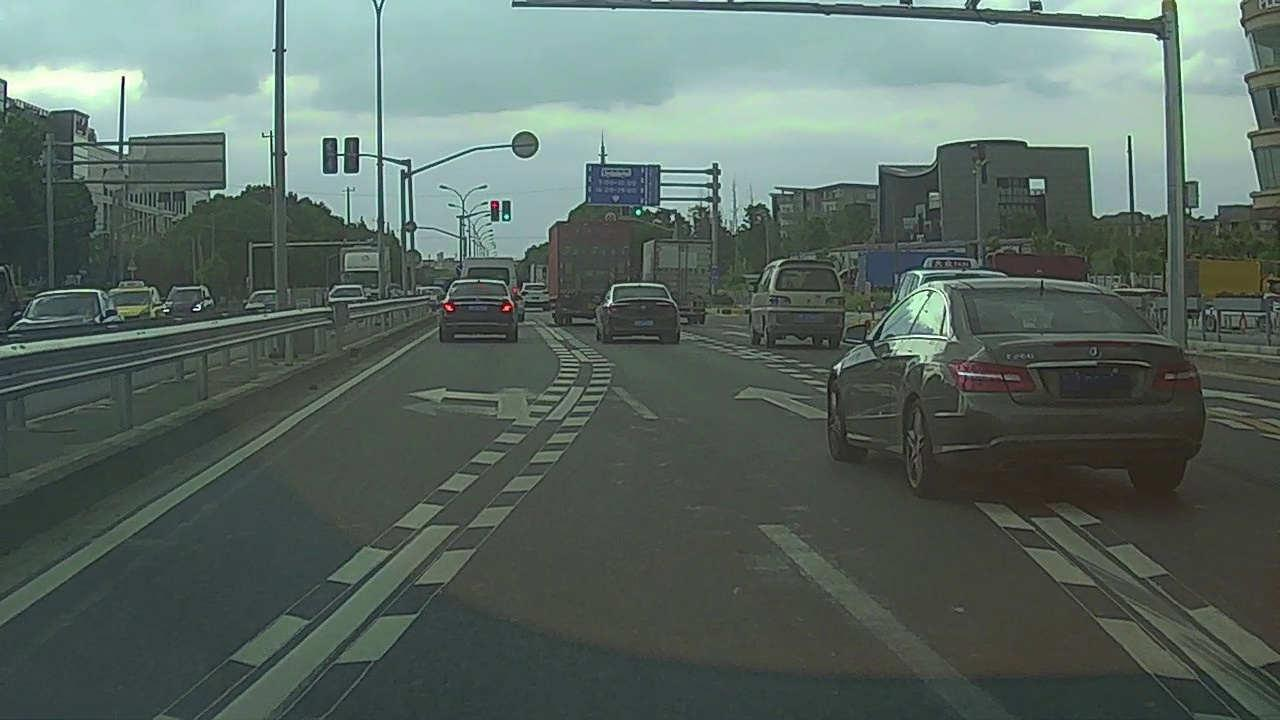traffic_light: (489, 200, 499, 222), (501, 200, 511, 221)
